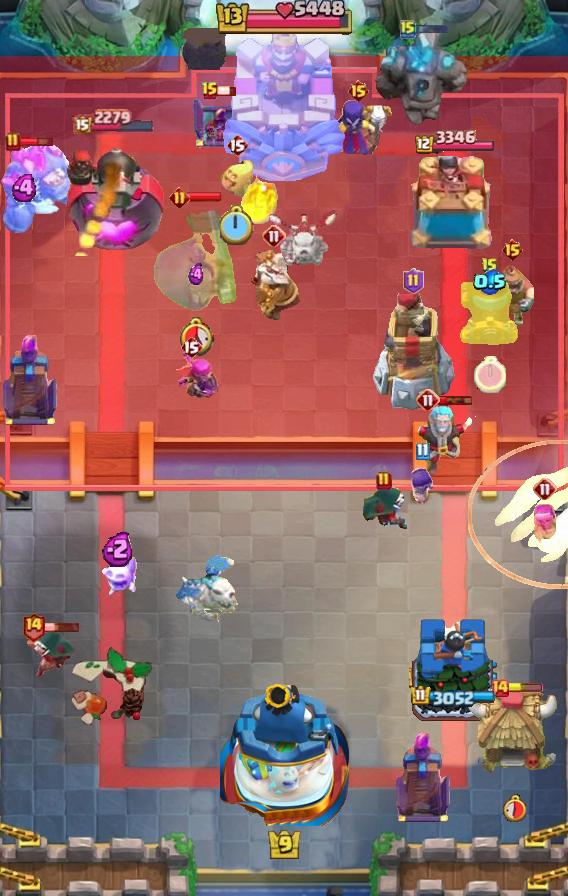axe: (323, 100, 393, 160)
baby-dragon: (182, 28, 226, 70)
bat-evolution: (219, 158, 255, 196)
cannoneer-tower: (375, 31, 471, 129), (0, 141, 84, 233)
clock: (213, 0, 355, 38)
earthquake: (490, 261, 534, 325)
electro-spirit: (101, 529, 134, 567), (473, 269, 507, 295), (12, 174, 41, 202), (187, 263, 204, 286)
elixir: (177, 316, 215, 356), (220, 205, 254, 245), (474, 356, 506, 393), (502, 794, 526, 822)
elixir-collector: (246, 249, 302, 323)
emote: (43, 621, 81, 633), (18, 135, 53, 148), (187, 191, 223, 203), (438, 395, 474, 406), (414, 24, 449, 35), (507, 683, 543, 693), (217, 85, 237, 97)
evolution-symbol: (173, 349, 235, 405)
goblin: (533, 502, 557, 546), (409, 466, 435, 504)
ice-spirit-evolution-symbol: (0, 335, 60, 427), (393, 732, 453, 824), (190, 96, 254, 150)
ice-wizard: (468, 440, 568, 589)
king-tower: (220, 21, 348, 181), (219, 678, 349, 826)
mini-pekka: (263, 203, 341, 271), (171, 554, 239, 628)
mirror: (98, 547, 138, 597)
mortar: (400, 404, 484, 478)
musketeer: (460, 281, 520, 345)
prince: (467, 686, 561, 776)
queen-tower: (409, 616, 497, 731), (407, 156, 499, 256)
selected: (72, 108, 156, 134), (412, 130, 494, 156), (412, 685, 497, 707)
tesla: (24, 631, 80, 679), (357, 487, 411, 529)
text: (21, 611, 46, 642), (262, 224, 286, 248), (416, 388, 440, 412), (533, 477, 557, 501), (347, 79, 370, 103), (500, 238, 523, 262), (403, 268, 424, 294), (226, 133, 248, 157), (180, 335, 202, 359), (169, 187, 190, 209), (490, 678, 510, 698), (201, 81, 219, 101), (481, 257, 499, 277), (400, 19, 416, 39), (5, 132, 21, 152), (376, 471, 392, 491), (415, 442, 430, 461)
tower-bar: (63, 138, 164, 256)
valkyrie: (238, 162, 280, 228)
wall-breaker-evolution: (154, 196, 238, 314)
zappy: (371, 290, 456, 414)
